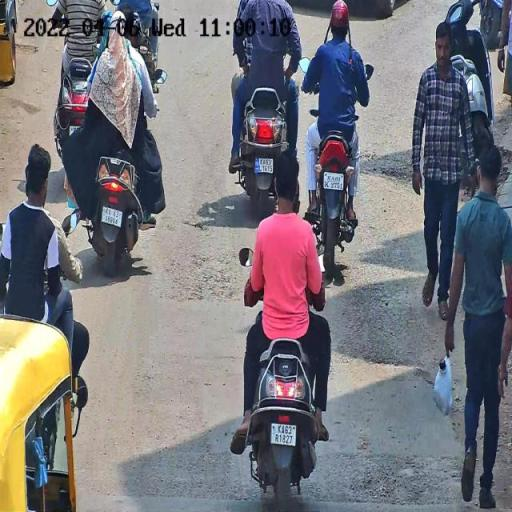tripple riding: (73, 8, 168, 150)
